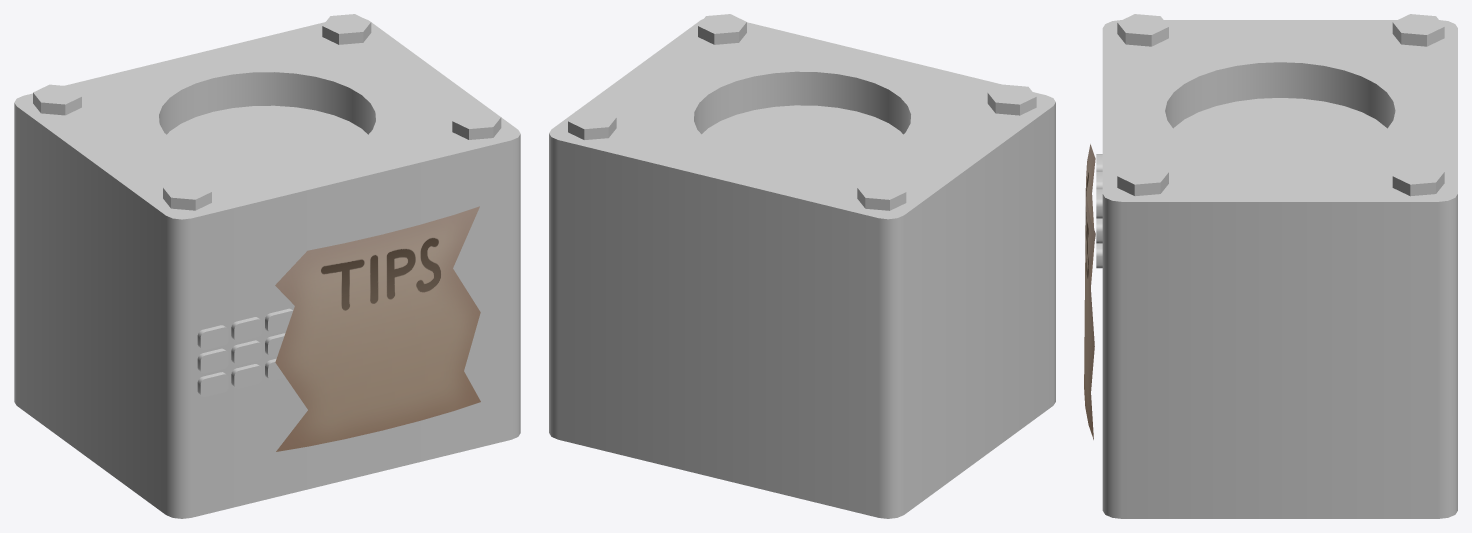
Rendered from Tips_5.fbx.
3 views of the same model, side by side, from view 1: azimuth 30°, elevation 25°; view 2: azimuth 150°, elevation 25°; view 3: azimuth 270°, elevation 25° (orthographic). The views are drawn at different scales.
Parts seen in each view (by area): view 1: Cube, Cube.001, Cylinder.001, Cube.002, Cylinder, Cylinder.002; view 2: Cube, Cube.001, Cylinder.002, Cylinder; view 3: Cube, Cube.001, Cylinder.002, Cylinder, Cylinder.001, Cube.002.
Boxes of the visible parts, x1=… form: Cube: x1=14, y1=132, x2=520, y2=518; Cube.001: x1=14, y1=19, x2=520, y2=248; Cylinder.001: x1=275, y1=206, x2=480, y2=451; Cube.002: x1=197, y1=308, x2=293, y2=396; Cylinder: x1=163, y1=109, x2=501, y2=210; Cylinder.002: x1=33, y1=14, x2=371, y2=115; Cube: x1=549, y1=131, x2=1055, y2=518; Cube.001: x1=549, y1=19, x2=1055, y2=248; Cylinder.002: x1=568, y1=109, x2=906, y2=210; Cylinder: x1=698, y1=14, x2=1036, y2=115; Cube: x1=1102, y1=225, x2=1457, y2=518; Cube.001: x1=1102, y1=20, x2=1457, y2=232; Cylinder.002: x1=1392, y1=14, x2=1444, y2=196; Cylinder: x1=1117, y1=14, x2=1168, y2=196; Cylinder.001: x1=1084, y1=144, x2=1095, y2=439; Cube.002: x1=1096, y1=154, x2=1102, y2=268.
Bounding box in the file's own units: 2.42 × 2.04 × 2.1.
